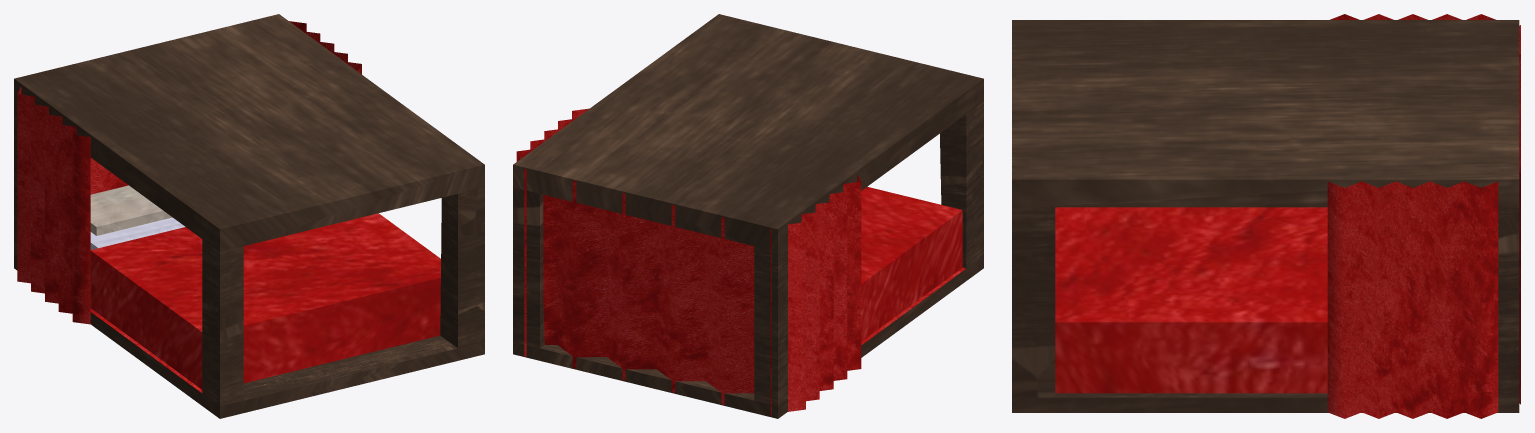
Rendered from kingsbed.fbx.
The picture shows the model from 3 angles, left to right: view 1: azimuth 30°, elevation 25°; view 2: azimuth 150°, elevation 25°; view 3: azimuth 270°, elevation 25°; orthographic projection. The views are drawn at different scales.
Visible parts, largest first — view 1: bedframe_king, curtain_trust1, pillow, curtain_trust, curtain_trust2; view 2: bedframe_king, curtain_trust, curtain_trust1, curtain_trust2; view 3: bedframe_king, curtain_trust2, curtain_trust, curtain_trust1.
Part boxes in pixels (box(x1,y1,x2,y2)): bedframe_king: box(14, 14, 484, 418); curtain_trust1: box(17, 86, 90, 324); pillow: box(90, 185, 172, 235); curtain_trust: box(90, 158, 128, 194); curtain_trust2: box(289, 21, 361, 74); bedframe_king: box(513, 14, 983, 418); curtain_trust: box(524, 169, 771, 416); curtain_trust1: box(788, 174, 861, 411); curtain_trust2: box(516, 108, 588, 161); bedframe_king: box(1012, 20, 1519, 412); curtain_trust2: box(1327, 181, 1498, 418); curtain_trust: box(1519, 25, 1520, 404); curtain_trust1: box(1330, 14, 1495, 19).
Size of the model in its own units: 542 by 339 by 670.
